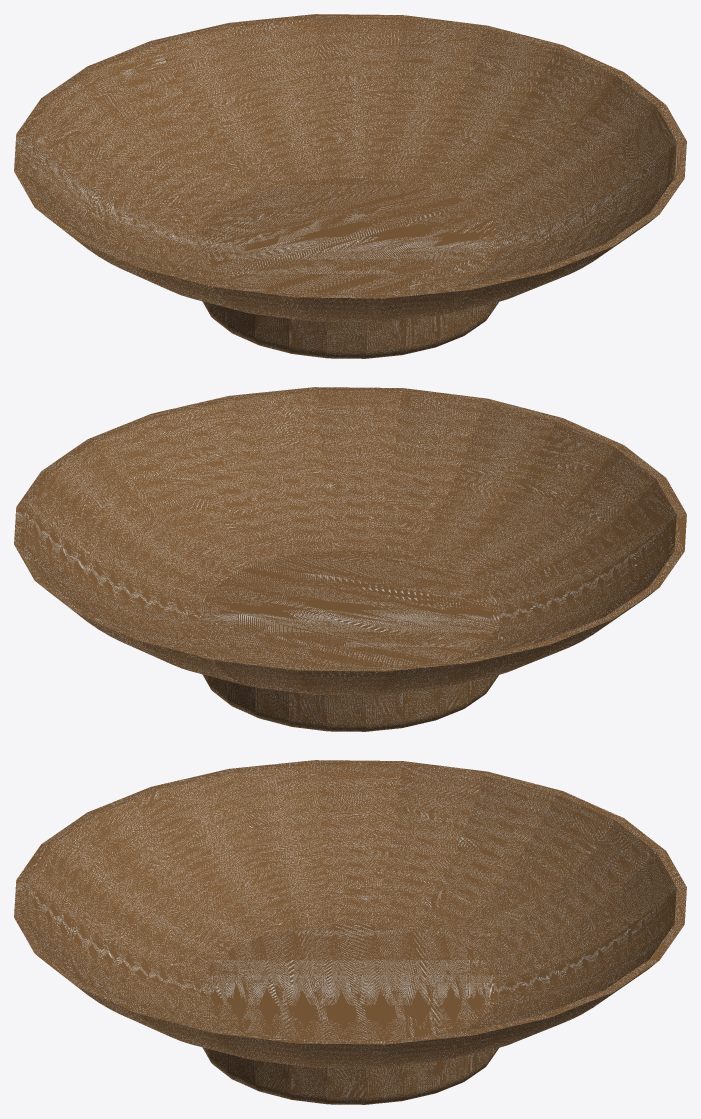
3 views of the same model, one above another, from view 1: azimuth 30°, elevation 25°; view 2: azimuth 150°, elevation 25°; view 3: azimuth 270°, elevation 25° (orthographic).
Parts seen in each view (by area): view 1: mesh1_mesh1-geometry; view 2: mesh1_mesh1-geometry; view 3: mesh1_mesh1-geometry.
Part boxes in pixels (x1,y1,x2,y2): mesh1_mesh1-geometry: (14,14,686,358); mesh1_mesh1-geometry: (14,387,686,731); mesh1_mesh1-geometry: (14,760,686,1104).
Bounding box in the file's own units: 0.6976 × 0.1637 × 0.6976.
